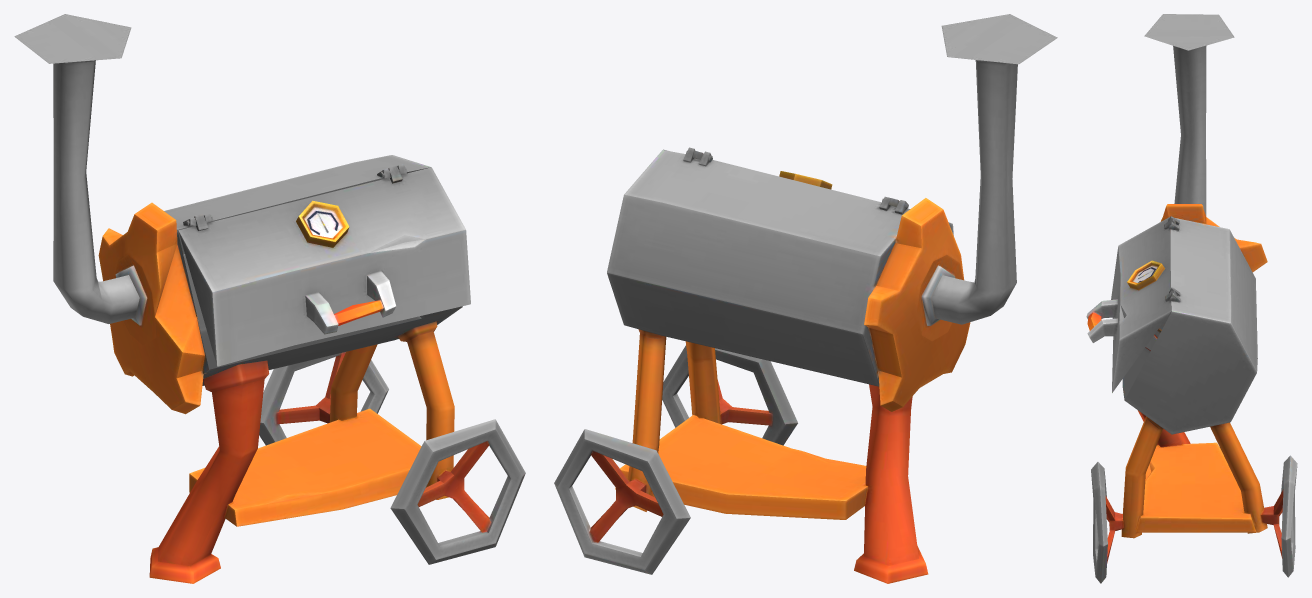
Rendered from obj_smoker01_base.gltf.
3 renders of one model, left to right at view 1: azimuth 30°, elevation 25°; view 2: azimuth 150°, elevation 25°; view 3: azimuth 270°, elevation 25°, orthographic. The views are drawn at different scales.
Visible parts, largest first — view 1: obj_smoker01_base; view 2: obj_smoker01_base; view 3: obj_smoker01_base.
Boxes of the visible parts, x1,y1,x2,y2 form: obj_smoker01_base: (14, 14, 525, 583); obj_smoker01_base: (554, 14, 1057, 583); obj_smoker01_base: (1086, 14, 1297, 583).
Size of what is drawn, in the model's own units: 1.7 by 2.05 by 0.9346.
Materials: 1 (1 with a texture image).
